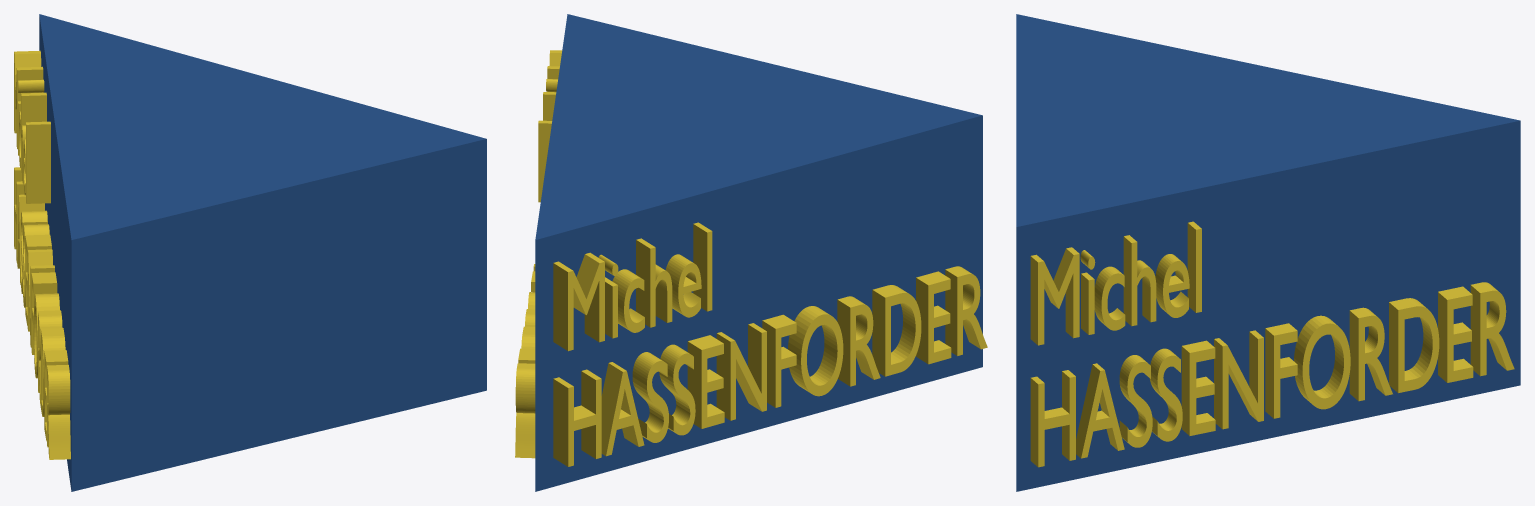
File: Michel_HASSENFORDER.fbx
The picture shows the model from 3 angles, left to right: view 1: azimuth 30°, elevation 25°; view 2: azimuth 150°, elevation 25°; view 3: azimuth 270°, elevation 25°; orthographic projection. The views are drawn at different scales.
Visible parts, largest first — view 1: Cube, Text.001; view 2: Cube, Text.001, Text; view 3: Cube, Text.
Boxes of the visible parts, box(x1,y1,x2,y2) form: Cube: box(39, 14, 486, 491); Text.001: box(14, 50, 70, 459); Cube: box(535, 14, 982, 491); Text.001: box(553, 222, 987, 466); Text: box(515, 50, 562, 458); Cube: box(1016, 14, 1520, 491); Text: box(1030, 221, 1514, 467).
Size of the model in its own units: 66.47 by 36.7 by 63.36.
